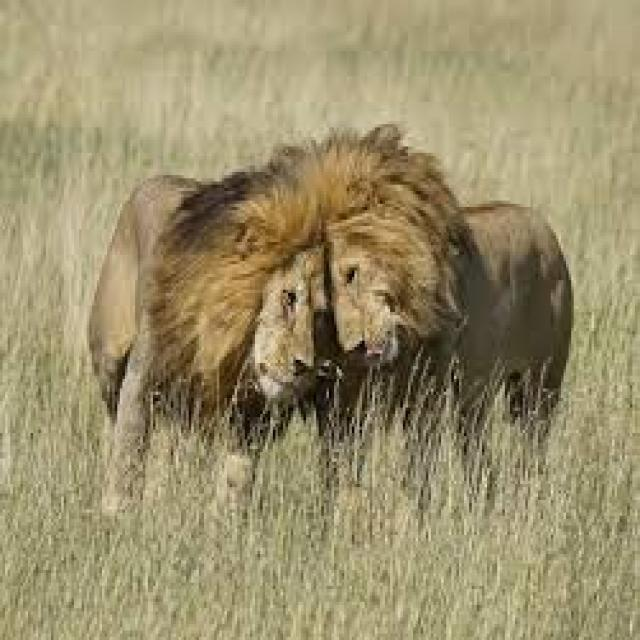Lion: (88, 133, 331, 513), (328, 126, 576, 427)
